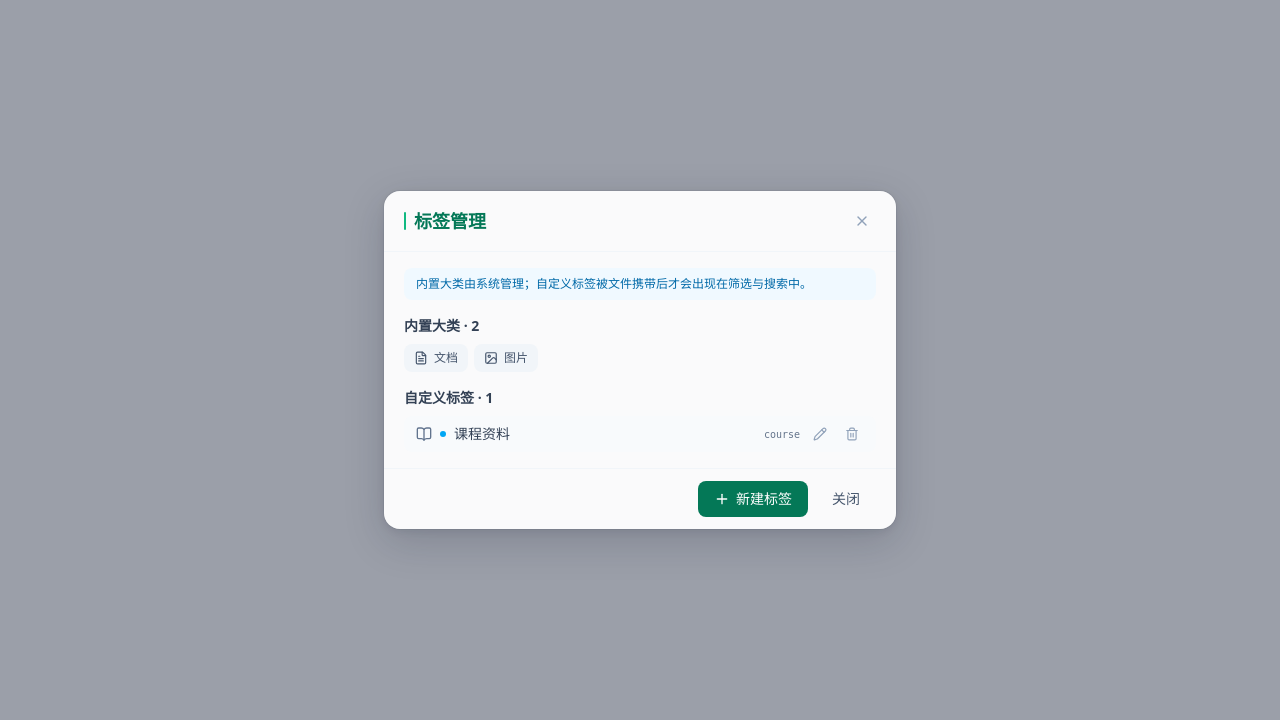
Test case: LabelManageDialog › 后端错误展示在提示条
The width and height of the screenshot is (1280, 720).
Click the button "新建标签" at (753, 499), box [698,481,808,517]
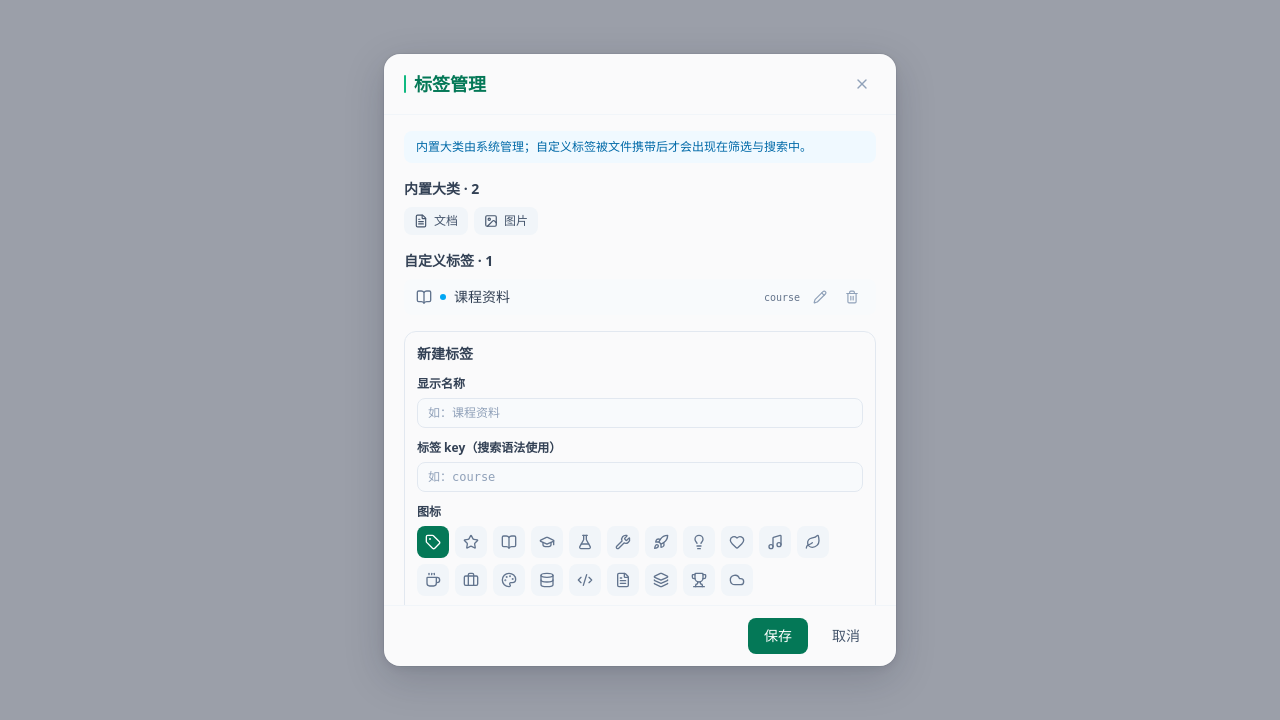
Type "数学" into the field with placeholder "如：课程资料" at (640, 413), box [417,398,863,428]
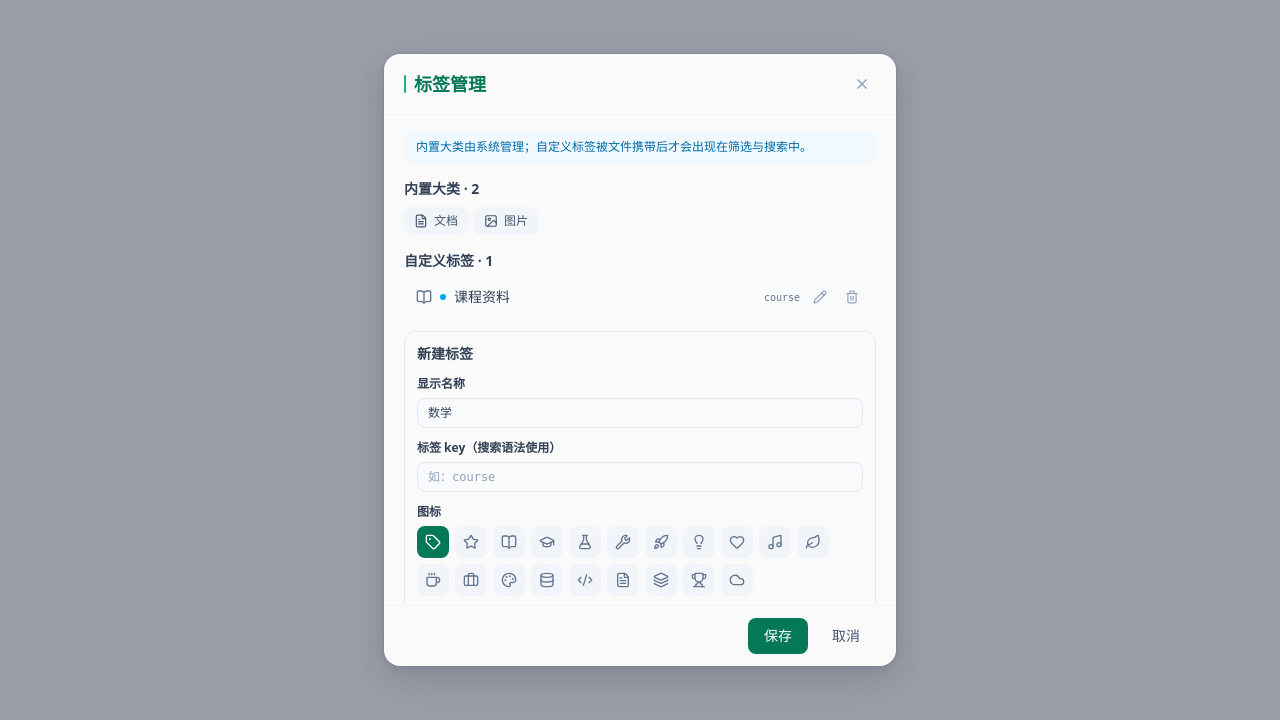
Type "math" into the field with placeholder "如：course" at (640, 477), box [417,462,863,492]
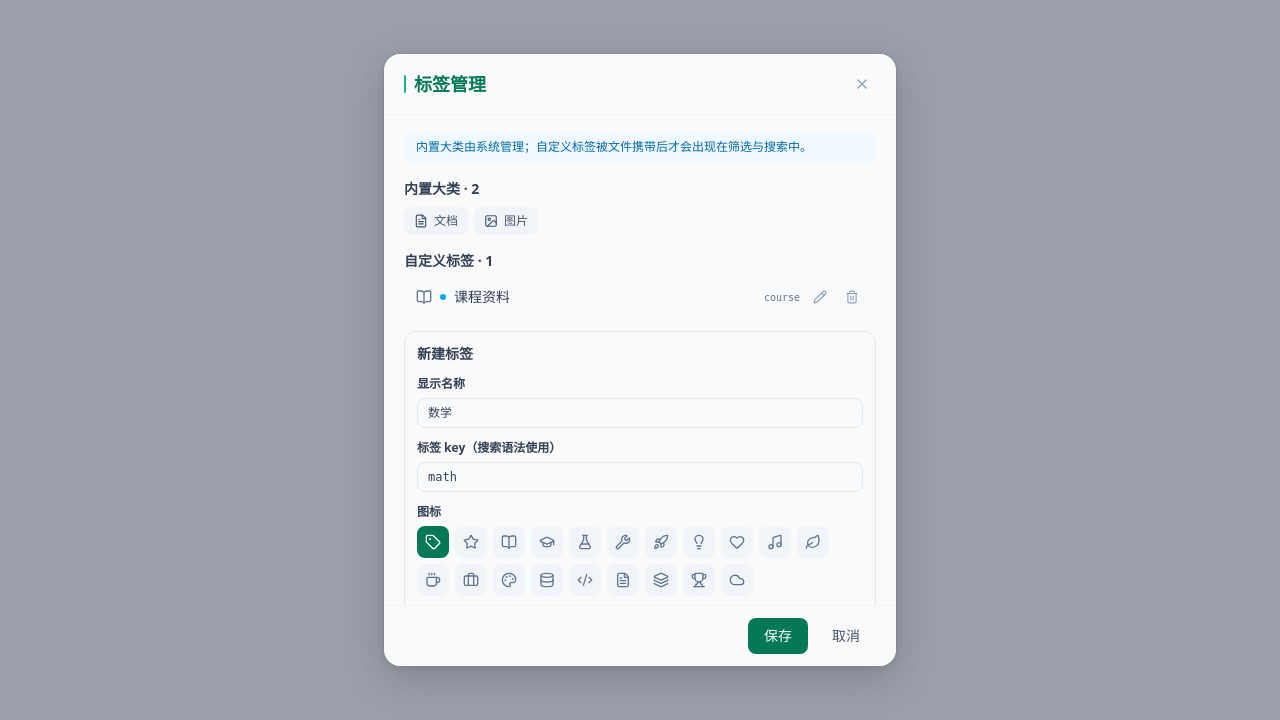
Click the button "保存" at (778, 636), box [748,618,808,654]
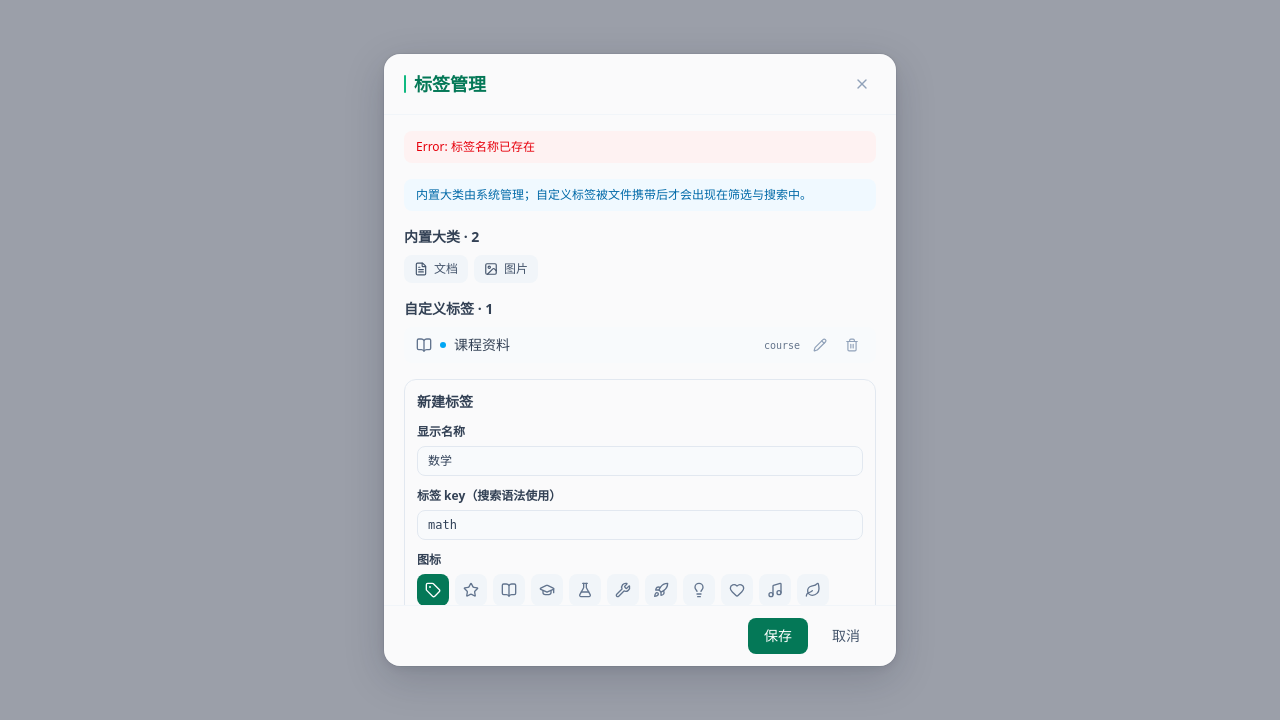
Result: the text "Error: 标签名称已存在" is shown at [404,131,876,163]
